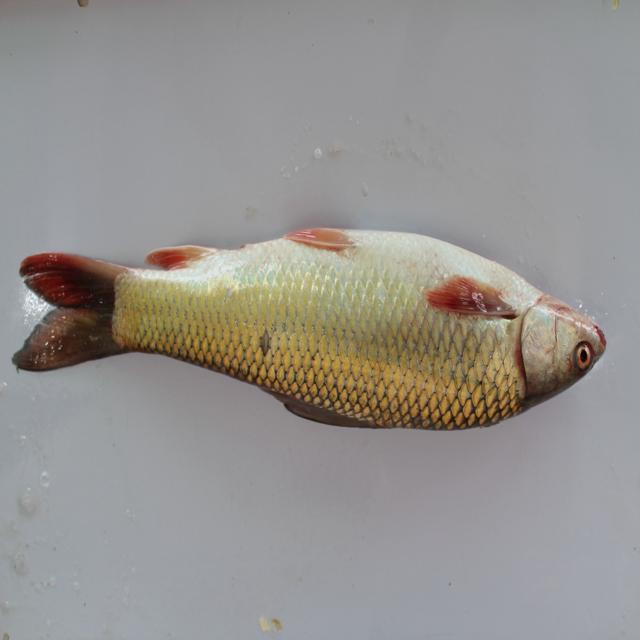Mori: (12, 217, 615, 439)
